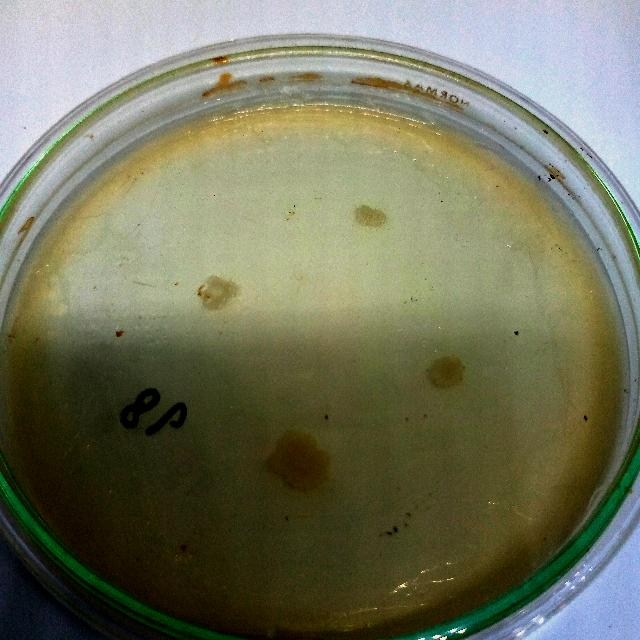colony: (262, 425, 341, 503), (192, 270, 242, 316), (422, 352, 470, 396), (348, 198, 389, 232)
